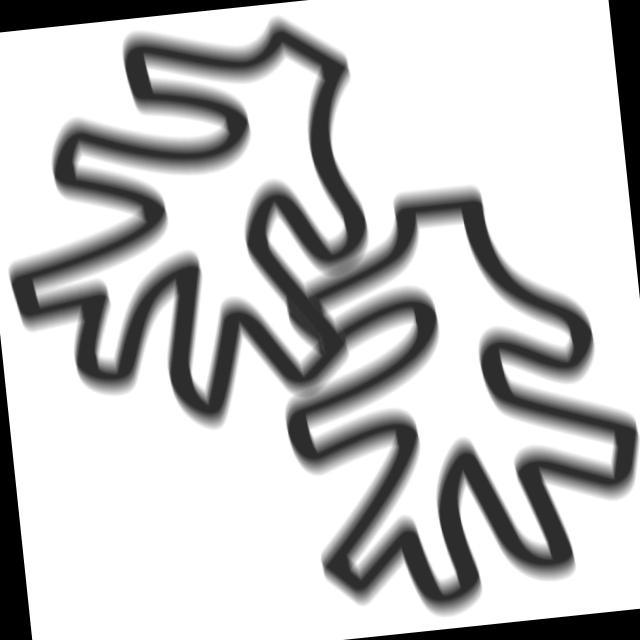coral: (252, 162, 640, 639), (1, 5, 401, 459)
